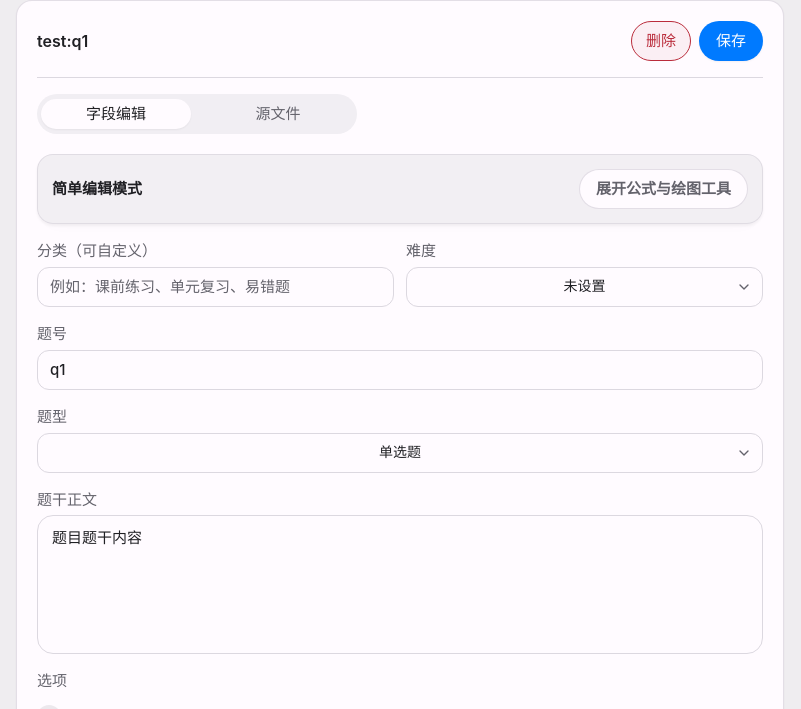
Scenario: BankQuestionEditorPanel User Journeys › Single Question Mode › allows editing single question id with Chinese IME composition instead of marking it readonly
Replace the text in the field labelled "题号" with "di" at {"x": 400, "y": 370}, box [37,350,763,390]
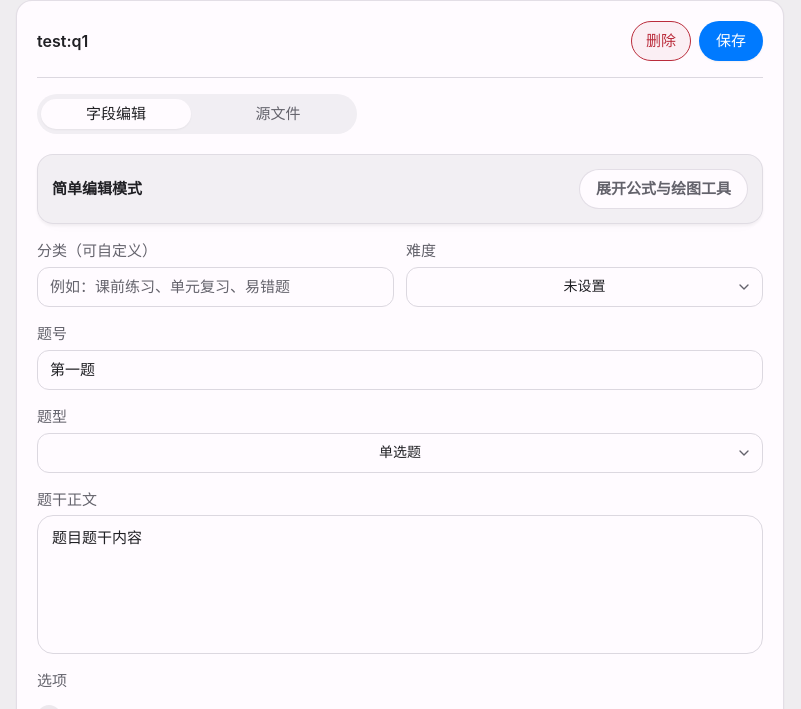
expect the field labelled "题号" holds "第一题": met, box [37,350,763,390]
